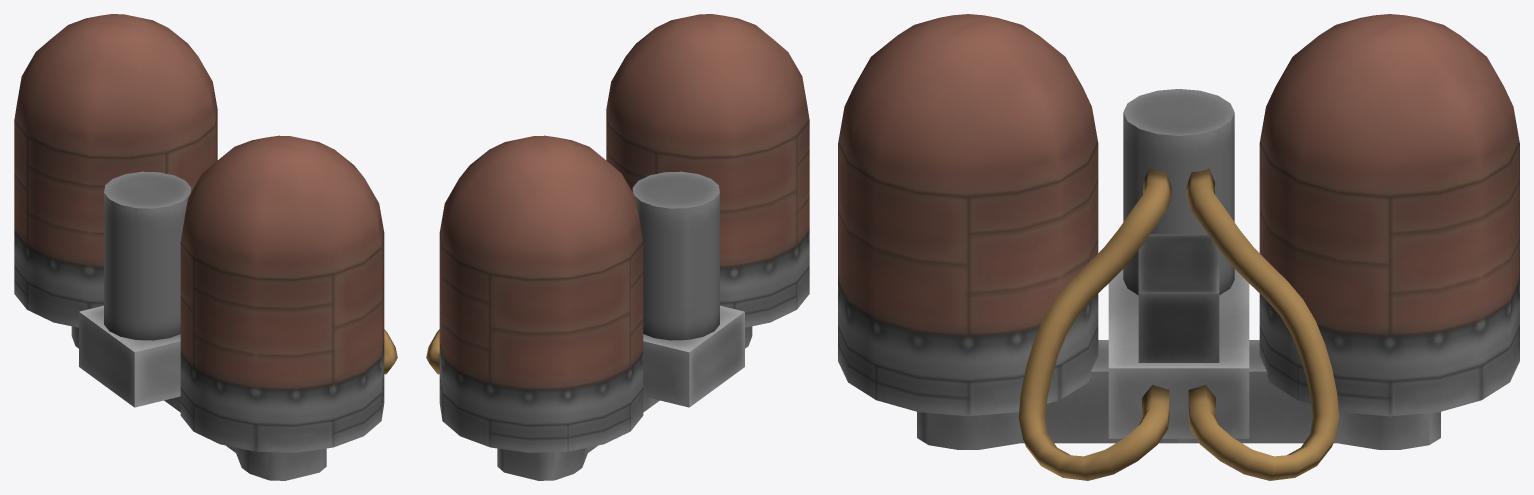
File: Hydrometer.dae
The picture shows the model from 3 angles, left to right: view 1: azimuth 30°, elevation 25°; view 2: azimuth 150°, elevation 25°; view 3: azimuth 270°, elevation 25°; orthographic projection. The views are drawn at different scales.
Visible parts, largest first — view 1: pSphere2, pSphere3, pCylinder46, pCube24, pCube25, extrudedSurface4; view 2: pSphere3, pSphere2, pCylinder46, pCube24, pCube25, extrudedSurface5; view 3: pSphere2, pSphere3, pCube25, extrudedSurface4, extrudedSurface5, pCylinder46, pCube24, pCube26.
Boxes of the visible parts, bbox=[...] form: pSphere2: bbox=[180, 135, 384, 452]; pSphere3: bbox=[14, 14, 217, 327]; pCylinder46: bbox=[104, 171, 191, 340]; pCube24: bbox=[79, 305, 180, 407]; pCube25: bbox=[71, 326, 326, 480]; extrudedSurface4: bbox=[384, 329, 397, 374]; pSphere3: bbox=[439, 135, 643, 452]; pSphere2: bbox=[606, 14, 809, 327]; pCylinder46: bbox=[632, 171, 719, 340]; pCube24: bbox=[643, 305, 744, 407]; pCube25: bbox=[497, 326, 752, 480]; extrudedSurface5: bbox=[426, 329, 439, 374]; pSphere2: bbox=[838, 14, 1098, 416]; pSphere3: bbox=[1259, 14, 1519, 416]; pCube25: bbox=[917, 340, 1440, 449]; extrudedSurface4: bbox=[1018, 169, 1171, 480]; extrudedSurface5: bbox=[1186, 169, 1339, 480]; pCylinder46: bbox=[1123, 89, 1234, 295]; pCube24: bbox=[1108, 269, 1249, 438]; pCube26: bbox=[1138, 234, 1219, 362].
Bounding box in the file's own units: 0.1422 × 0.1705 × 0.262.
